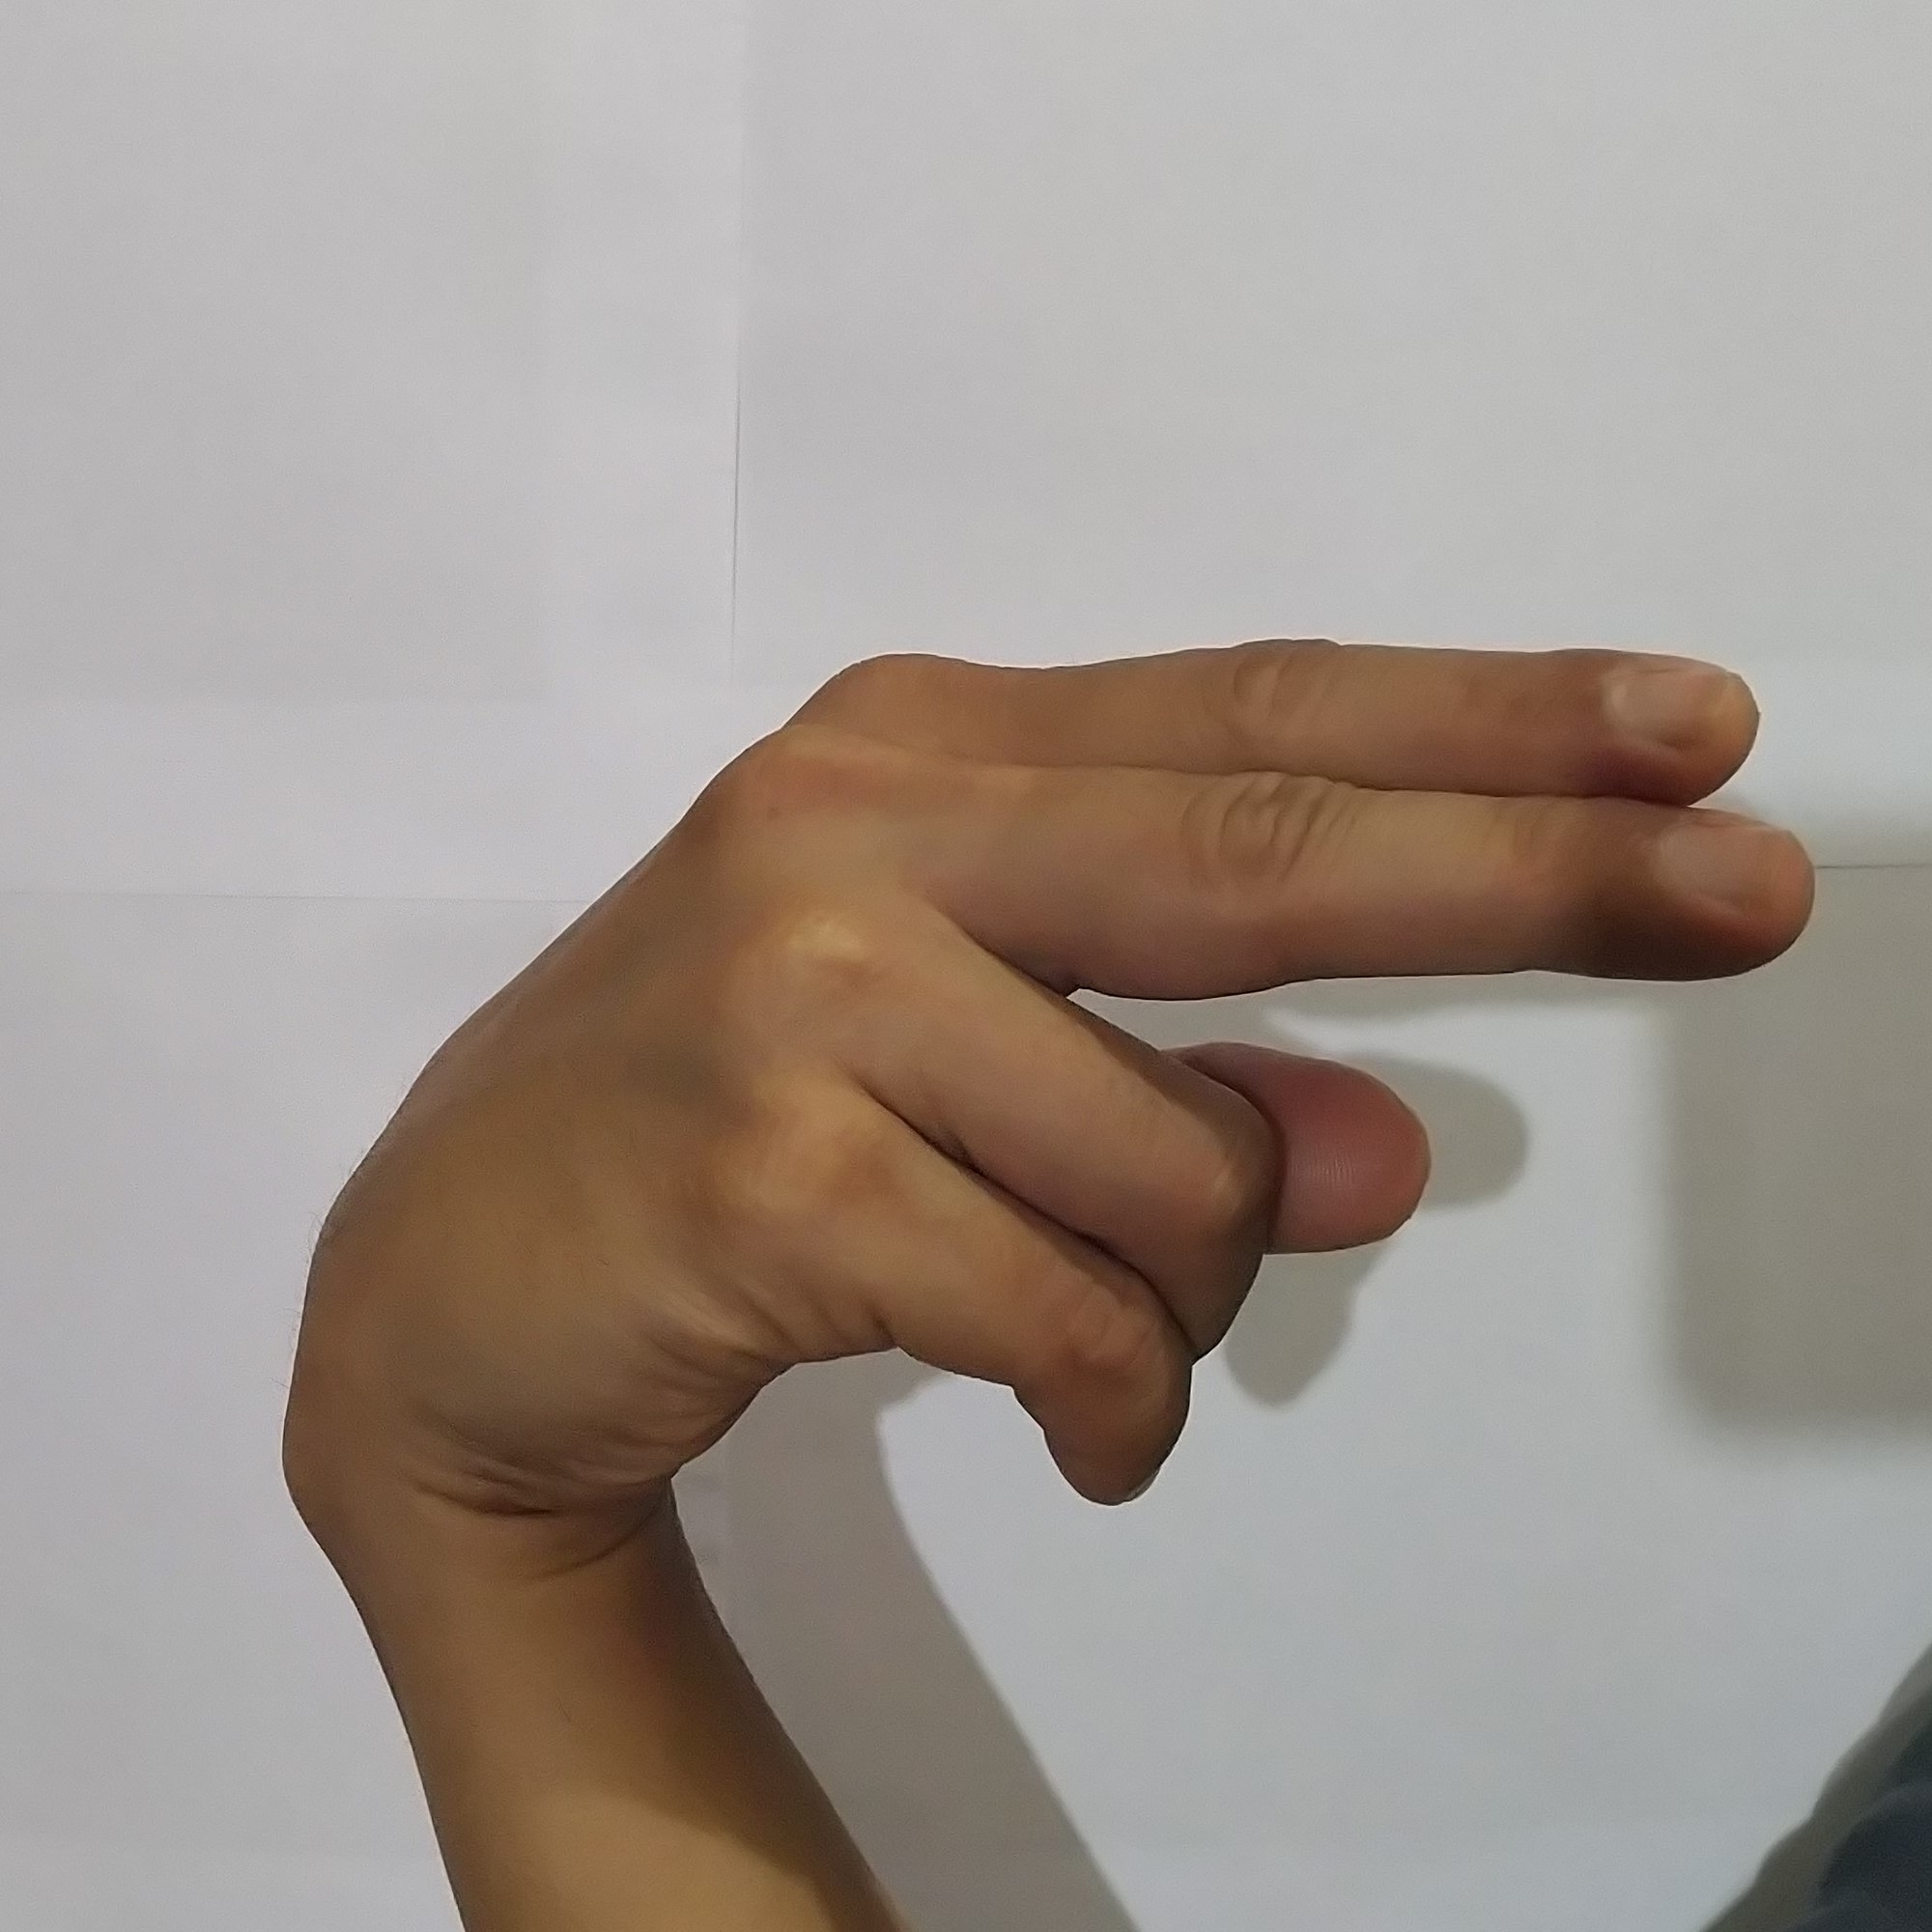H: (281, 610, 1836, 1527)
